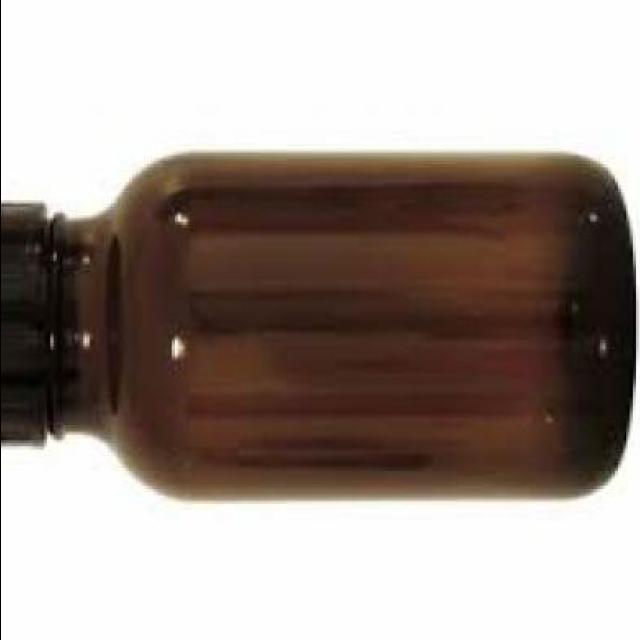kaca: (43, 150, 632, 496)
